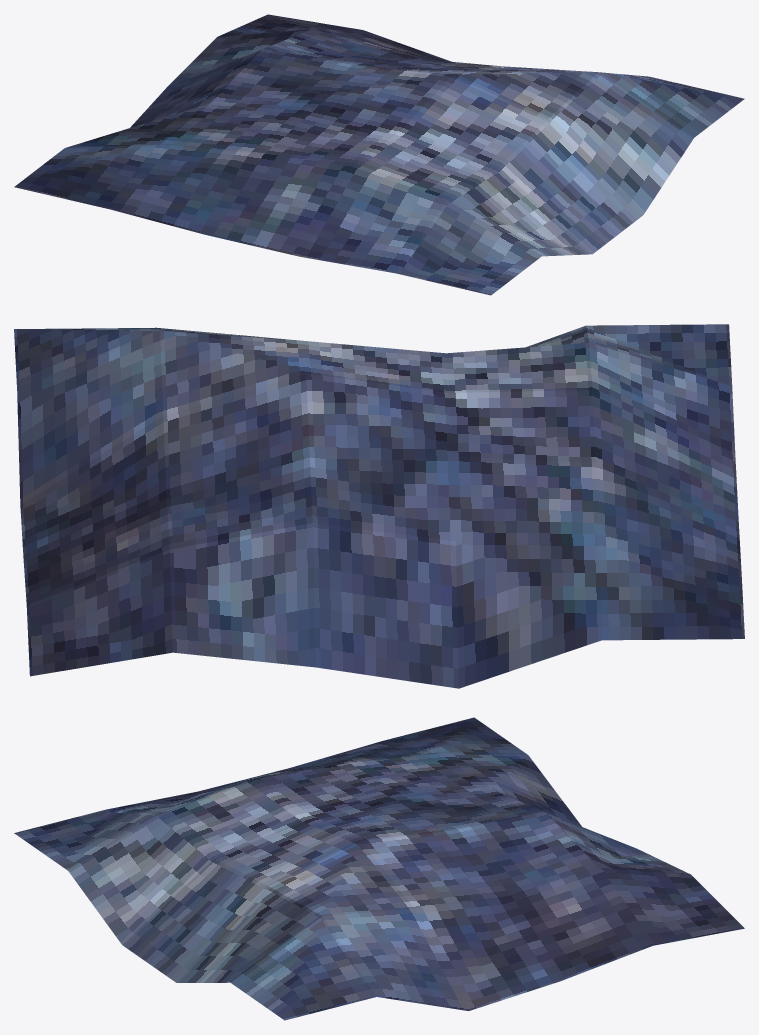
The model's file is sirena_scales.fbx.
The picture shows the model from 3 angles, top to bottom: view 1: azimuth 30°, elevation 25°; view 2: azimuth 150°, elevation 25°; view 3: azimuth 270°, elevation 25°; orthographic projection. The views are drawn at different scales.
Parts seen in each view (by area): view 1: sirena_scales; view 2: sirena_scales; view 3: sirena_scales.
Part boxes in pixels (bbox=[...]): sirena_scales: bbox=[14, 14, 744, 295]; sirena_scales: bbox=[14, 324, 744, 688]; sirena_scales: bbox=[14, 717, 744, 1020].
Size of the model in its own units: 82.8 by 11.91 by 83.42.
1 material, 1 textured.
